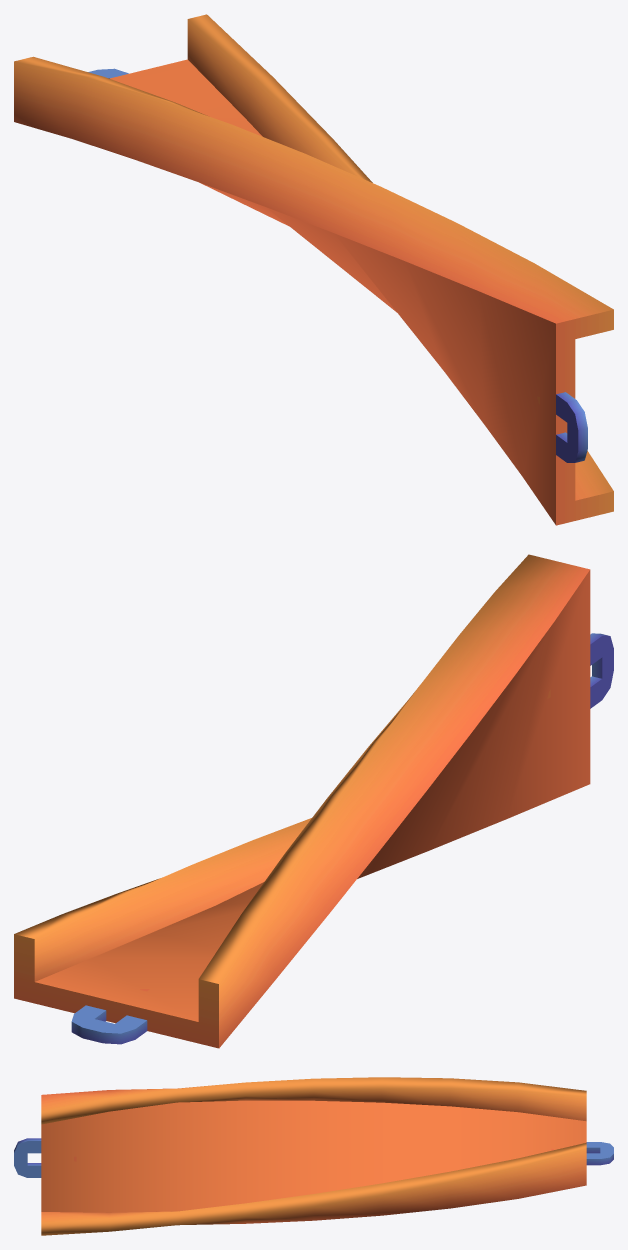
Rendered from track-narrow-straight-skew-left-side.glb.
3 renders of one model, top to bottom at view 1: azimuth 30°, elevation 25°; view 2: azimuth 150°, elevation 25°; view 3: azimuth 270°, elevation 25°, orthographic. The views are drawn at different scales.
Visible parts, largest first — view 1: track-narrow-straight-skew-left-side; view 2: track-narrow-straight-skew-left-side; view 3: track-narrow-straight-skew-left-side.
Boxes of the visible parts, <box> form: track-narrow-straight-skew-left-side: <box>14,14,613,525</box>; track-narrow-straight-skew-left-side: <box>14,554,613,1048</box>; track-narrow-straight-skew-left-side: <box>14,1077,613,1235</box>.
Size of the model in its own units: 1.08 by 1.08 by 4.4.
Materials: 1 (1 with a texture image).
